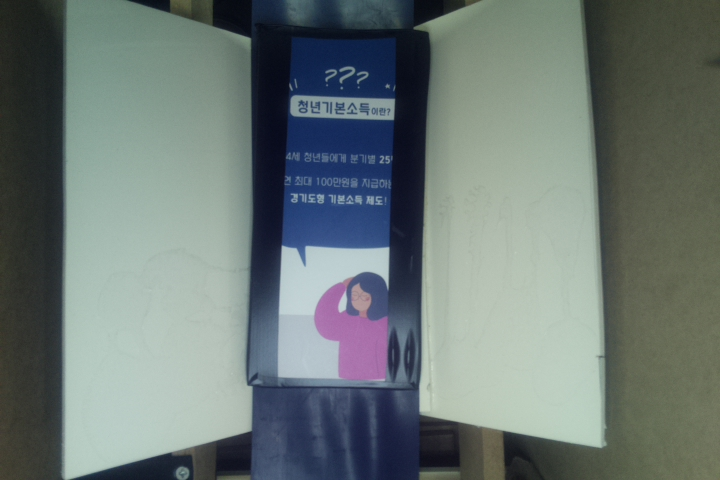book: (244, 26, 434, 390)
